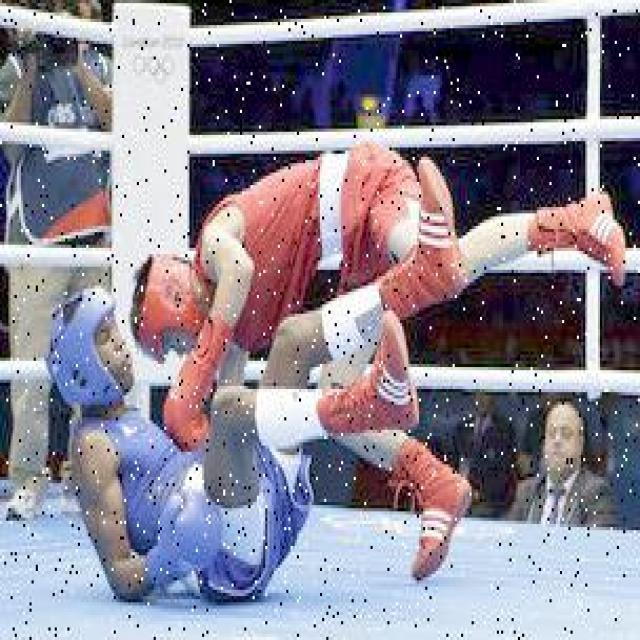fall: (55, 288, 299, 584)
